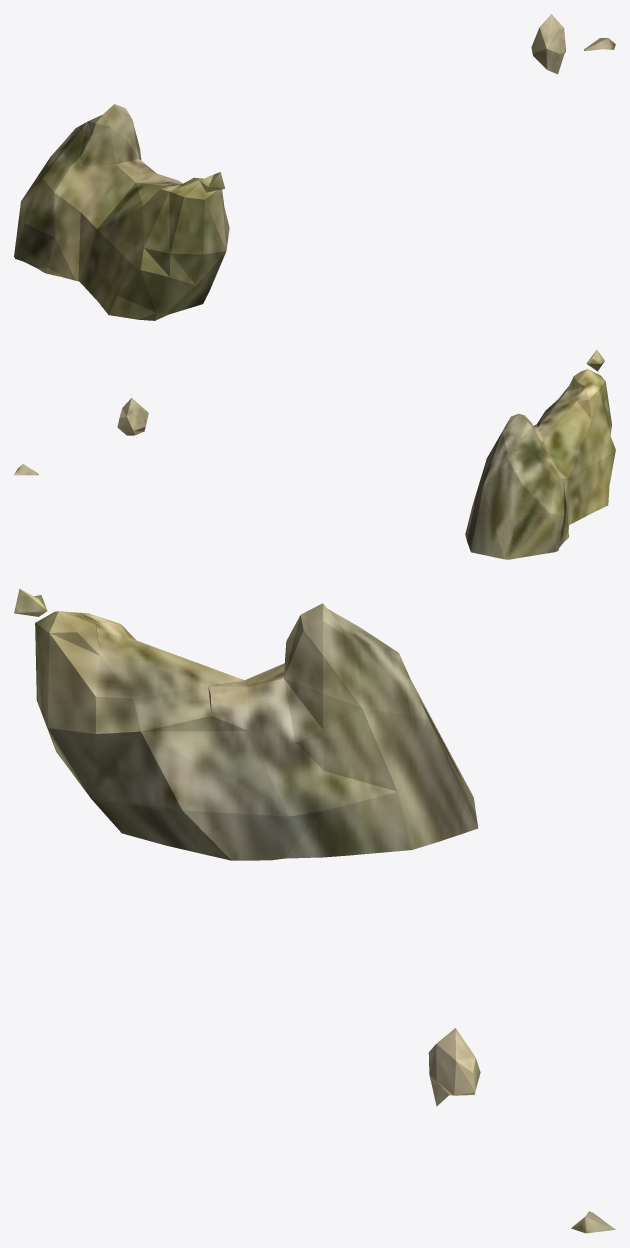
3 views of the same model, one above another, from view 1: azimuth 30°, elevation 25°; view 2: azimuth 150°, elevation 25°; view 3: azimuth 270°, elevation 25° (orthographic). The views are drawn at different scales.
Size of the model in its own units: 4.51 by 1.05 by 2.46.
1 material, 1 textured.
